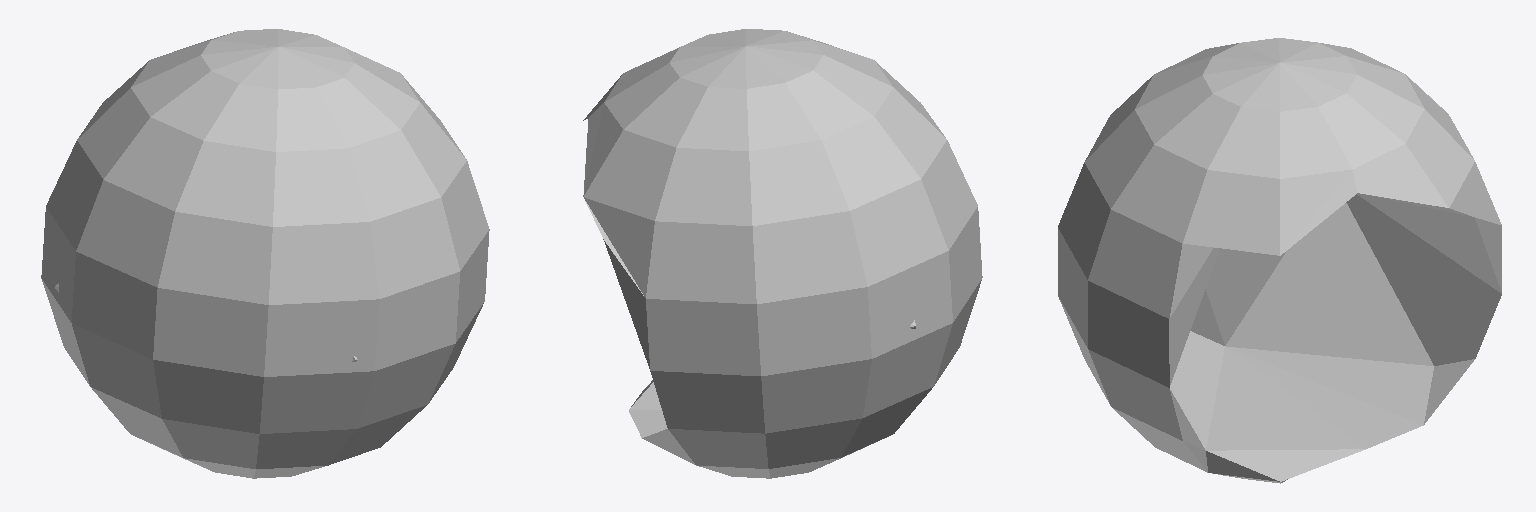
Rendered from cueva.obj.
The picture shows the model from 3 angles: view 1: azimuth 30°, elevation 25°; view 2: azimuth 150°, elevation 25°; view 3: azimuth 270°, elevation 25°; orthographic projection.
Visible parts, largest first — view 1: group[number redacted]; view 2: group[number redacted]; view 3: group[number redacted].
Boxes of the visible parts, box(x1,y1,x2,y2) form: group[number redacted]: box(41, 29, 489, 478); group[number redacted]: box(583, 29, 982, 478); group[number redacted]: box(1058, 38, 1501, 483).
Bounding box in the file's own units: 0.4539 × 0.4789 × 0.4729.